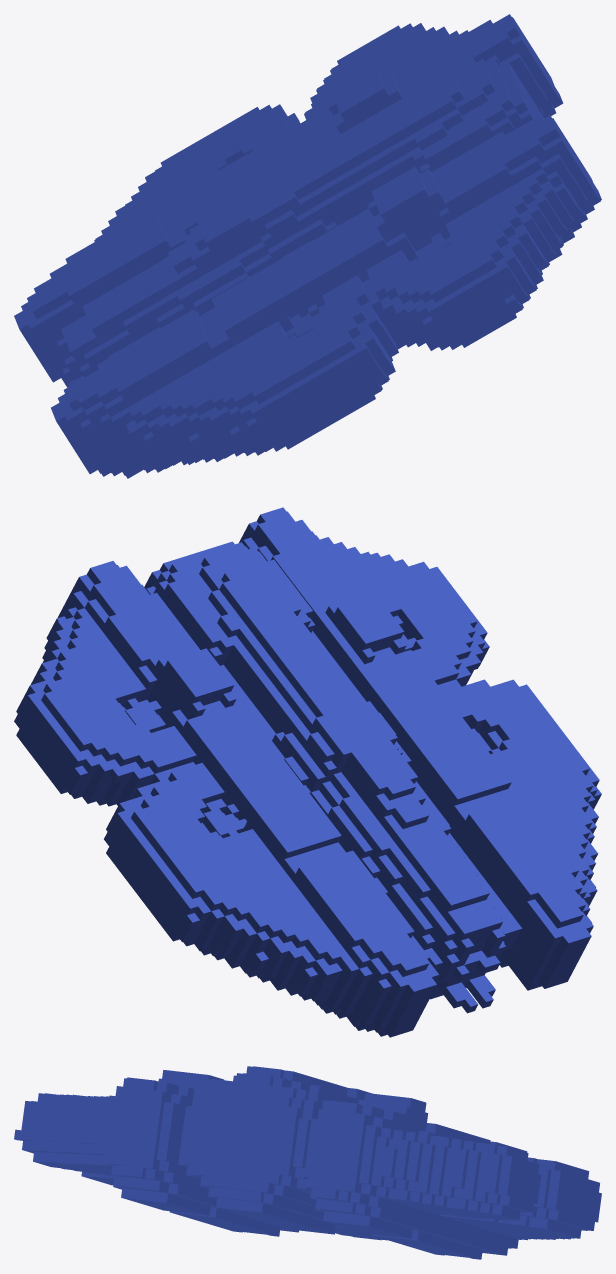
The model's file is nave3.fbx.
The picture shows the model from 3 angles, top to bottom: view 1: azimuth 30°, elevation 25°; view 2: azimuth 150°, elevation 25°; view 3: azimuth 270°, elevation 25°; orthographic projection. The views are drawn at different scales.
Parts seen in each view (by area): view 1: base; view 2: base; view 3: base.
Part boxes in pixels (box(x1,y1,x2,y2)): base: box(14, 14, 601, 478); base: box(14, 507, 601, 1037); base: box(14, 1066, 601, 1259).
Bounding box in the file's own units: 193 × 118 × 198.
